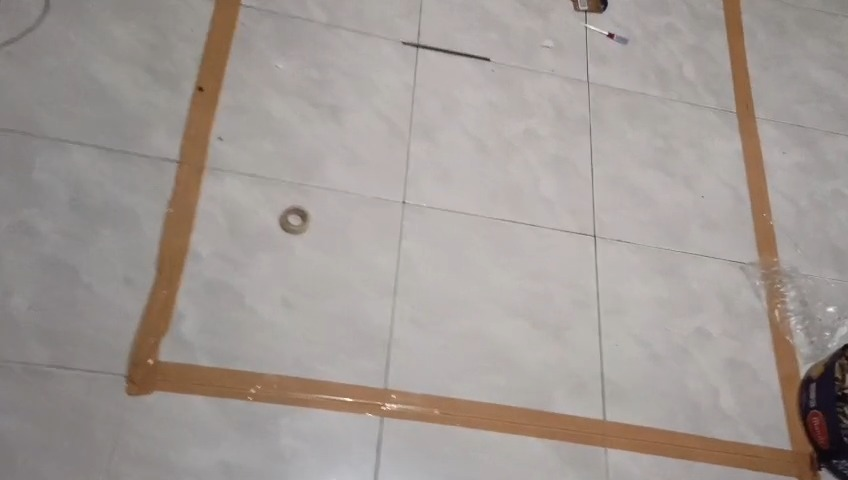floor marking: (126, 0, 817, 479)
